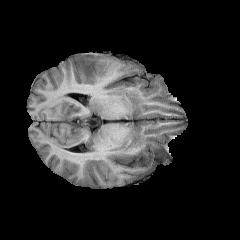glioma: (74, 56, 104, 79)
